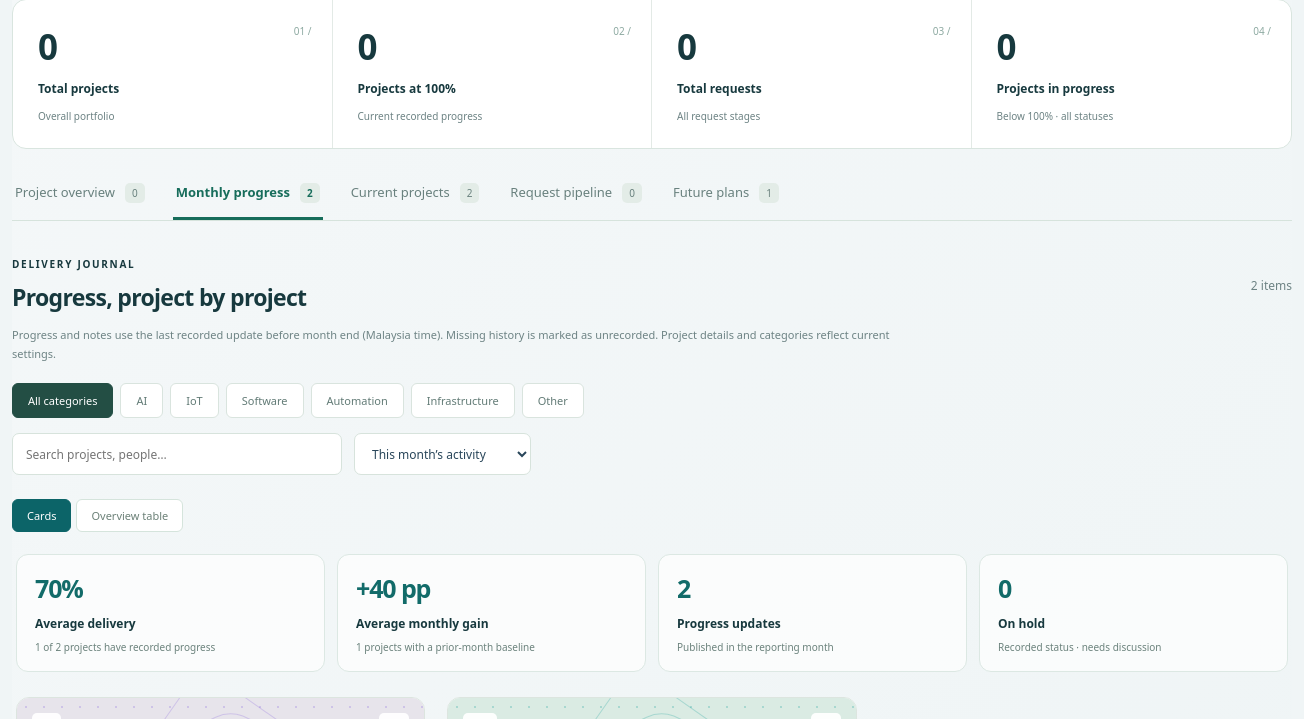
Scenario: shows recorded monthly gains and explicitly identifies missing history
The width and height of the screenshot is (1304, 719).
(page scrolled)
Click the button "IoT" at (194, 401), box [170,383,219,418]
Wait 160 ms
(page scrolled)
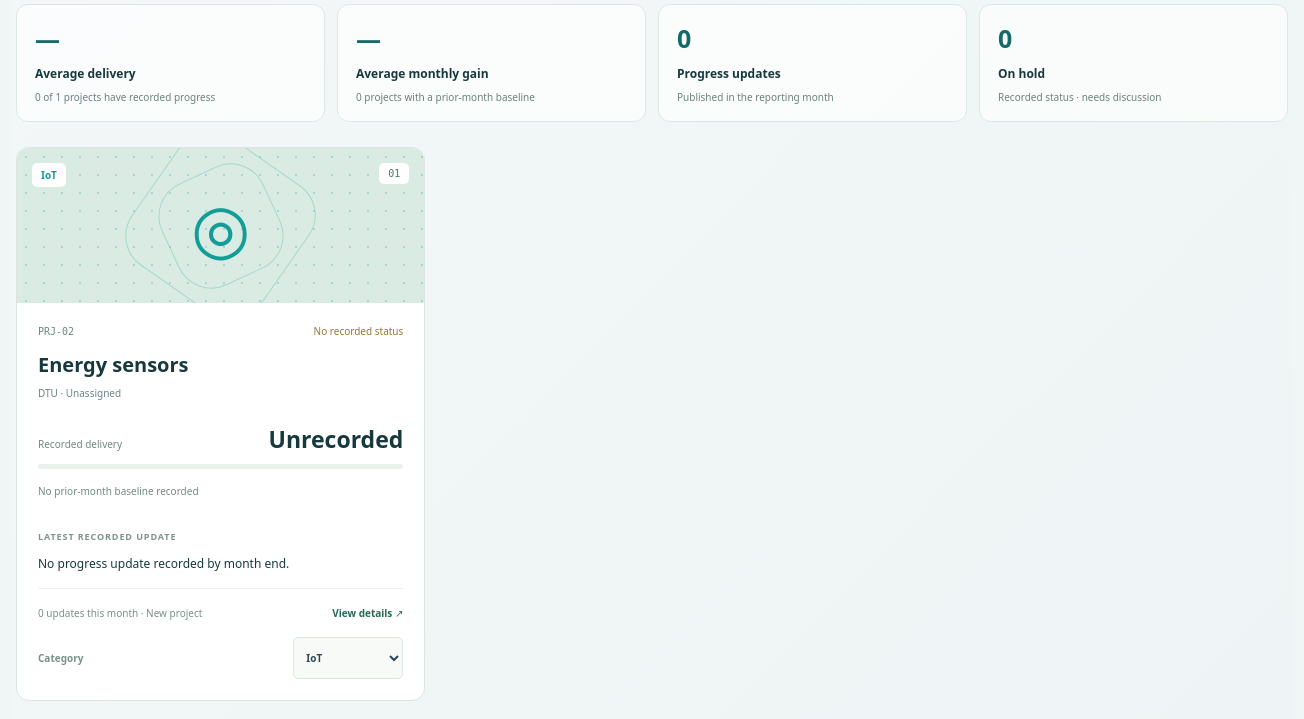
Expected: the element with class "mr-grid" shows "Energy sensors", [38,352,188,378]
Expected: the number of elements with class "mr-card" is 1, [16,147,425,701]
